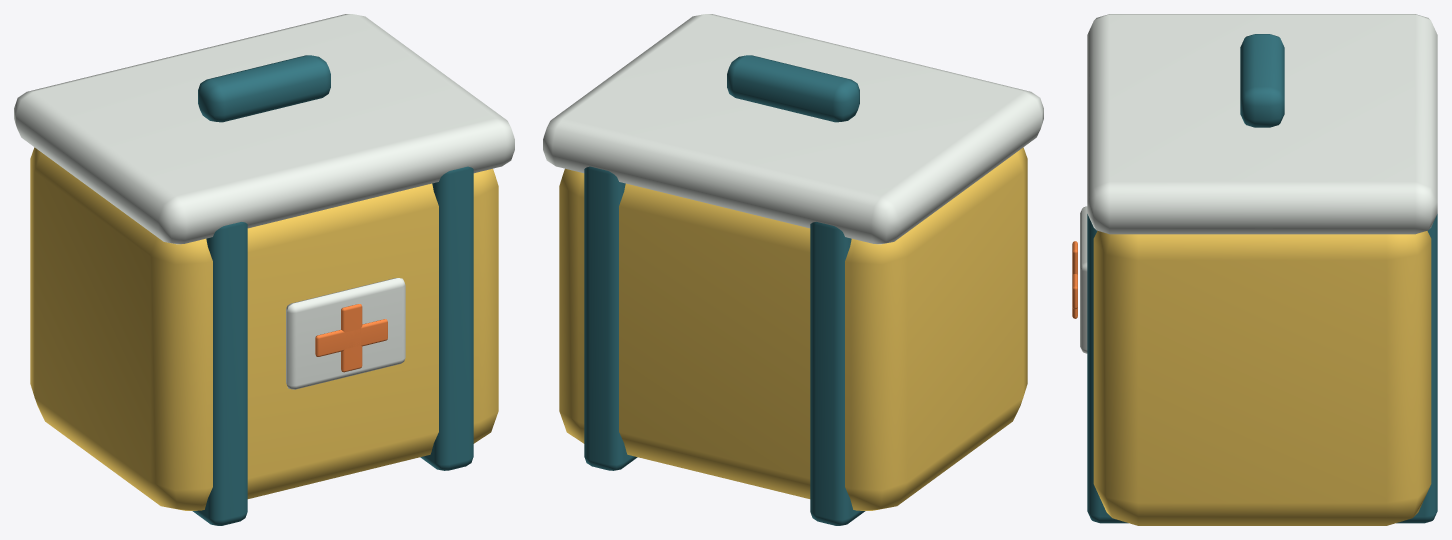
The model's file is Supply_Crate.glb.
3 renders of one model, left to right at view 1: azimuth 30°, elevation 25°; view 2: azimuth 150°, elevation 25°; view 3: azimuth 270°, elevation 25°, orthographic. The views are drawn at different scales.
Parts seen in each view (by area): view 1: Crate shell, Crate lid, Teal wrap strap, Teal wrap strap.001, Contents label, Carrying handle, Label cross A, Label cross B; view 2: Crate shell, Crate lid, Teal wrap strap, Teal wrap strap.001, Carrying handle; view 3: Crate shell, Crate lid, Teal wrap strap.001, Carrying handle, Contents label.
Boxes of the visible parts, <box> form: Crate shell: <box>30,147,498,510</box>; Crate lid: <box>14,14,514,244</box>; Teal wrap strap: <box>192,222,247,525</box>; Teal wrap strap.001: <box>420,166,473,470</box>; Contents label: <box>286,278,405,389</box>; Carrying handle: <box>198,55,330,122</box>; Label cross A: <box>315,319,387,356</box>; Label cross B: <box>341,304,362,372</box>; Crate shell: <box>559,147,1027,510</box>; Crate lid: <box>543,14,1043,244</box>; Teal wrap strap: <box>810,222,865,525</box>; Teal wrap strap.001: <box>584,166,637,470</box>; Carrying handle: <box>727,55,859,122</box>; Crate shell: <box>1093,231,1431,525</box>; Crate lid: <box>1087,14,1437,234</box>; Teal wrap strap.001: <box>1087,214,1437,523</box>; Carrying handle: <box>1240,34,1284,127</box>; Contents label: <box>1080,206,1087,353</box>.
Bounding box in the file's own units: 0.69 × 0.69 × 0.5735.
